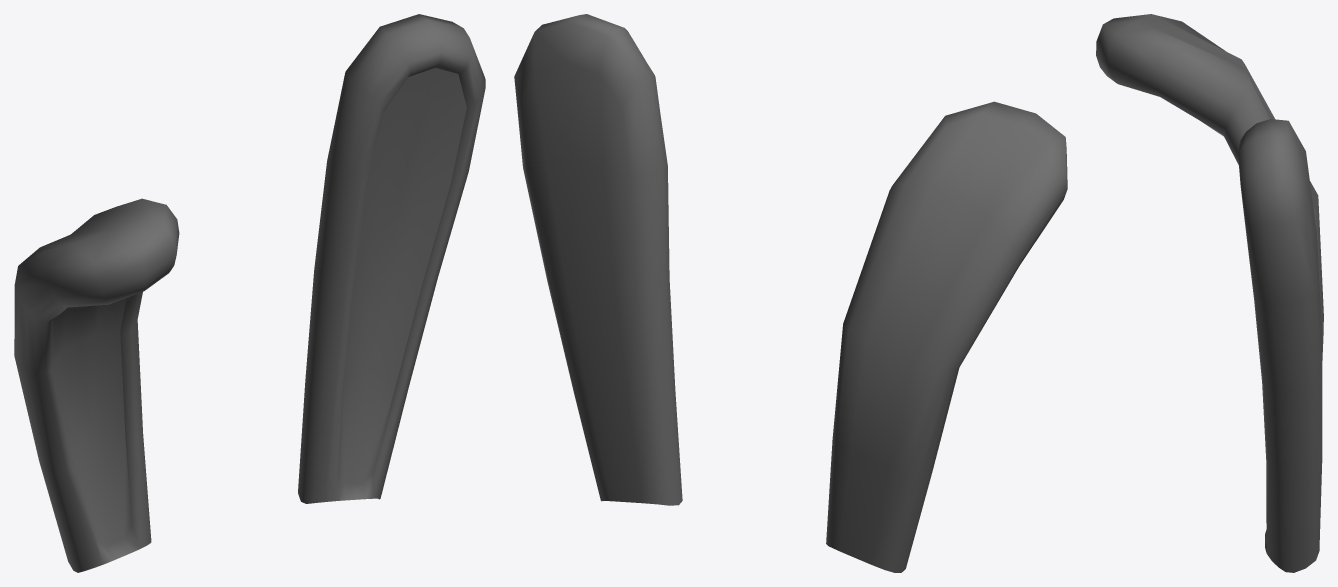
File: Bunny_low.fbx
The picture shows the model from 3 angles, left to right: view 1: azimuth 30°, elevation 25°; view 2: azimuth 150°, elevation 25°; view 3: azimuth 270°, elevation 25°; orthographic projection. The views are drawn at different scales.
Parts seen in each view (by area): view 1: Bunny_low; view 2: Bunny_low; view 3: Bunny_low.
Part boxes in pixels (box(x1,y1,x2,y2)): Bunny_low: box(14, 14, 485, 572); Bunny_low: box(514, 14, 1067, 572); Bunny_low: box(1096, 14, 1323, 572).
Bounding box in the file's own units: 67.83 × 62.37 × 28.17.
